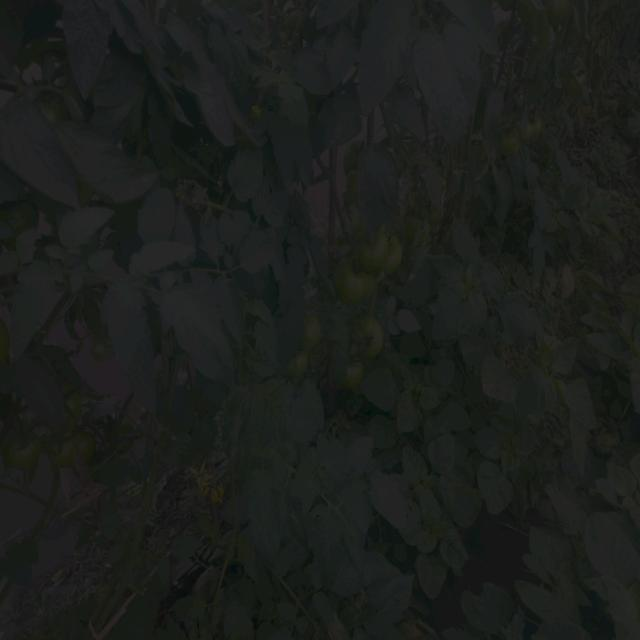tomato: (381, 232, 415, 279), (339, 262, 375, 304), (1, 429, 40, 464), (296, 307, 328, 347), (46, 428, 71, 477), (37, 80, 63, 124), (355, 225, 383, 265), (355, 319, 387, 351), (341, 359, 367, 389), (545, 1, 578, 24), (71, 432, 93, 466), (290, 347, 311, 381), (500, 125, 520, 152), (523, 111, 540, 141), (98, 340, 115, 367)
